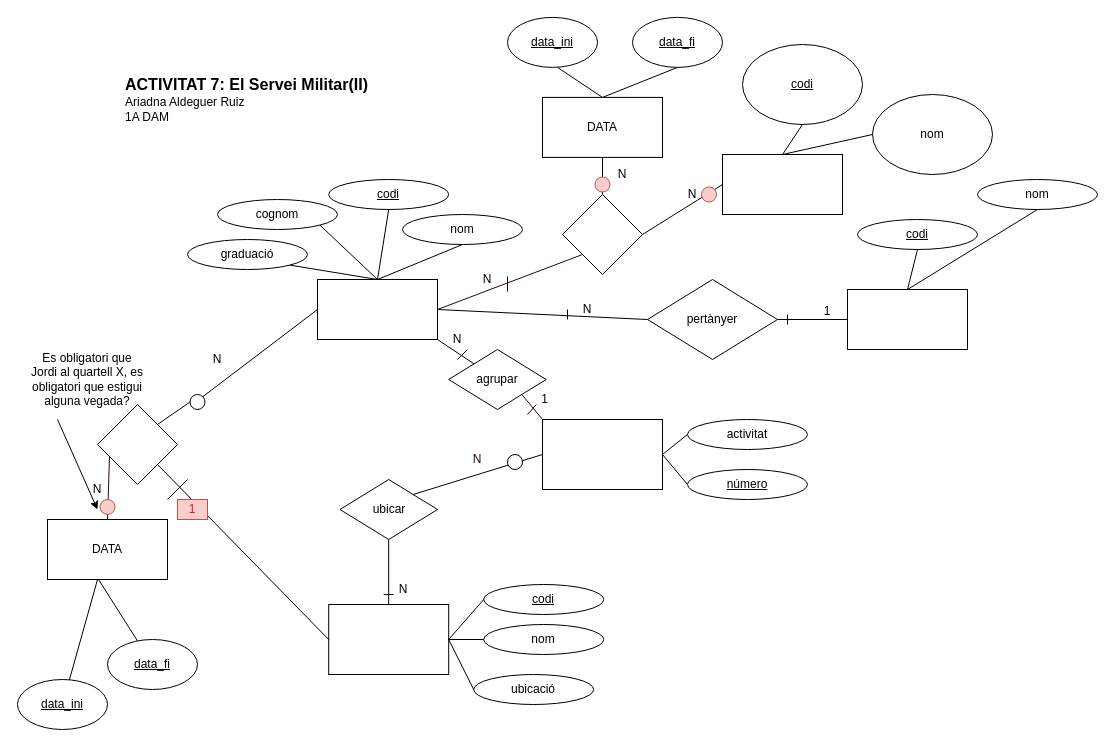
The diagram is 1115 pixels wide and 748 high, and some of its shapes have lost their labels. The centre of each missing label's shape, as x and y in pixels:
"COMPANYIA" goes at (602,454).
"COS" goes at (907,319).
"estar" goes at (137,444).
"QUARTELL" goes at (388,639).
"realitzar" goes at (602,234).
"SERVEIS" goes at (782,184).
"SOLDAT" goes at (377,309).
